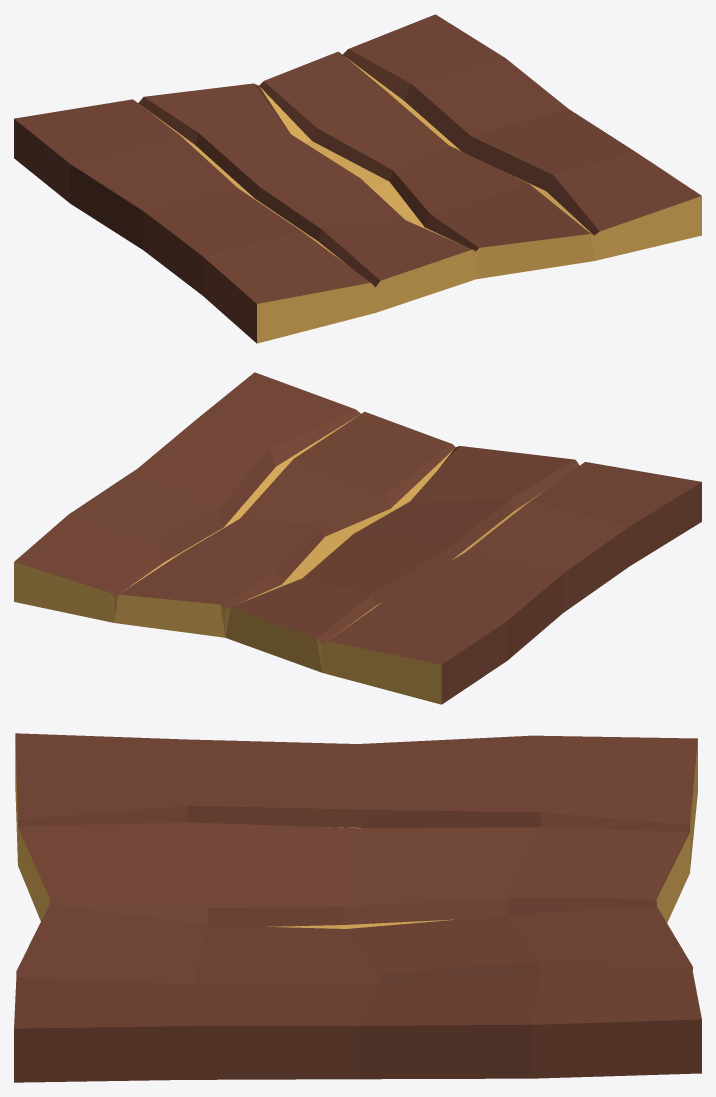
The model's file is chairSeat.glb.
3 views of the same model, one above another, from view 1: azimuth 30°, elevation 25°; view 2: azimuth 150°, elevation 25°; view 3: azimuth 270°, elevation 25° (orthographic). The views are drawn at different scales.
Visible parts, largest first — view 1: seat; view 2: seat; view 3: seat.
Boxes of the visible parts, x1=… form: seat: x1=14, y1=14, x2=701, y2=343; seat: x1=14, y1=372, x2=701, y2=704; seat: x1=14, y1=733, x2=701, y2=1082.
Bounding box in the file's own units: 0.4043 × 0.0593 × 0.3981.
